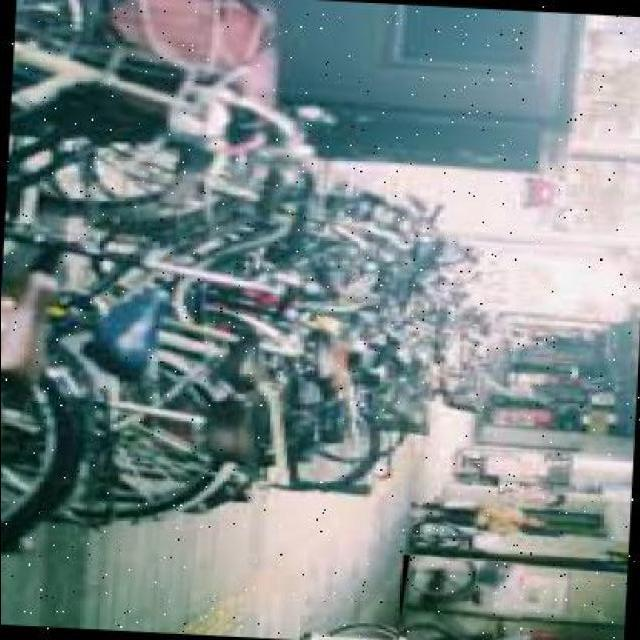bicycle: (396, 554, 525, 640)
